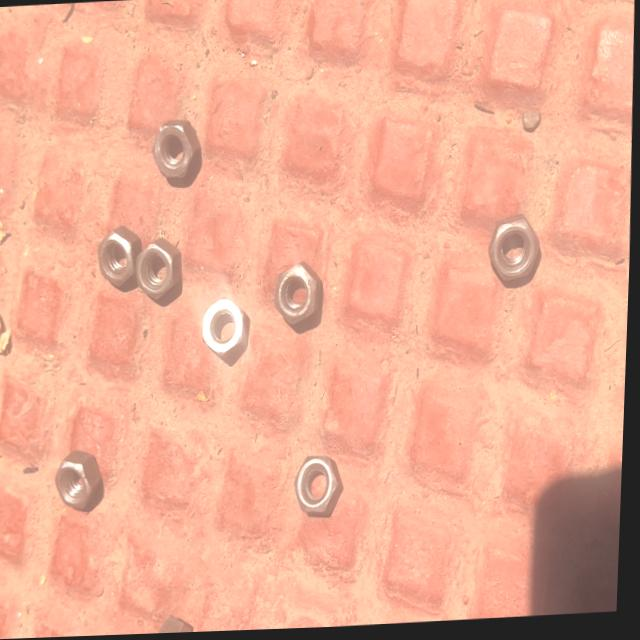disinfected nut: (491, 217, 541, 291), (276, 264, 326, 334), (205, 298, 253, 368), (155, 120, 203, 187), (139, 238, 184, 307), (299, 456, 346, 520), (99, 226, 144, 290), (59, 451, 106, 511), (162, 616, 197, 635)
